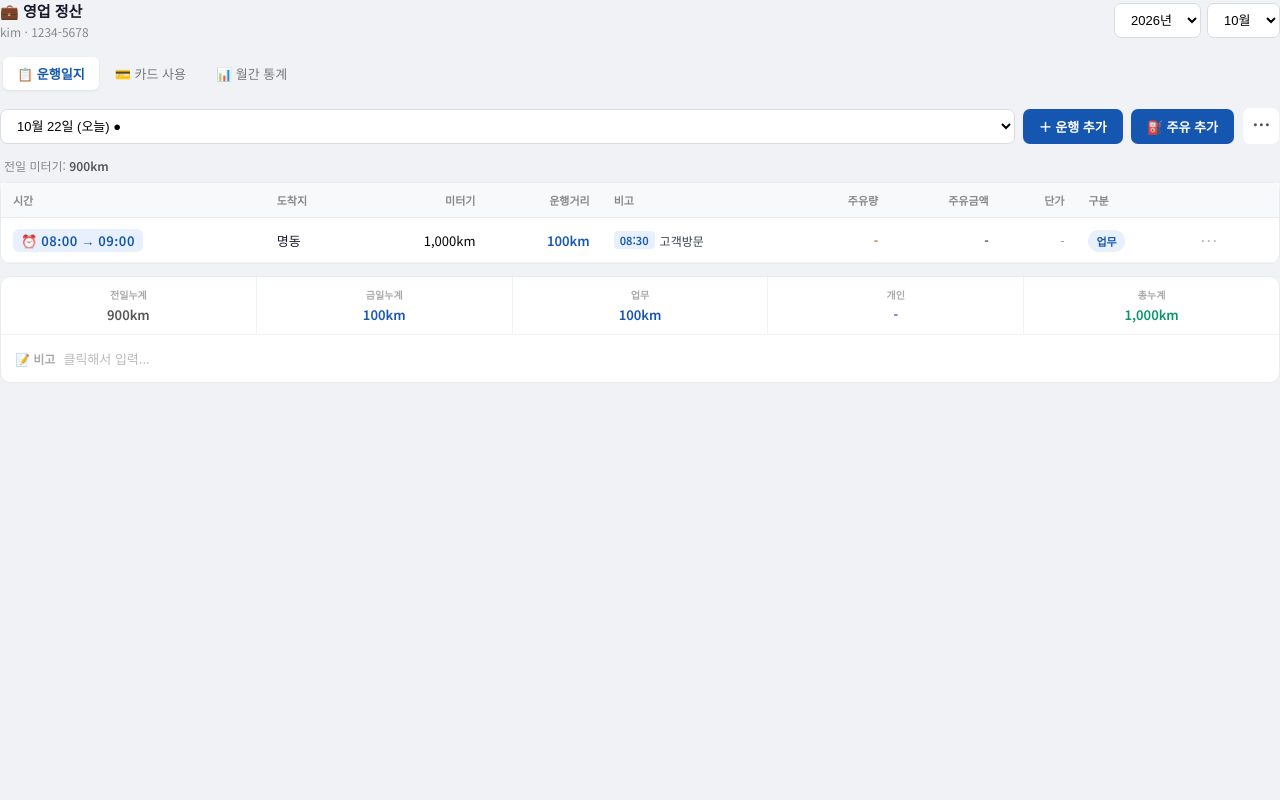
Test case: 영업 정산 – 입력 가능 날짜 › 운행 추가에서 다른 날짜를 고르면 뒤 화면도 그 날짜로 이동 · 저장 후에도 그 날짜
This screenshot has width=1280, height=800.
Expected: the 3rd dropdown shows "10월 22일 (오늘) ●", [0, 108, 1015, 144]
Click the button "＋ 운행 추가": (1073, 126) [1023, 108, 1123, 144]
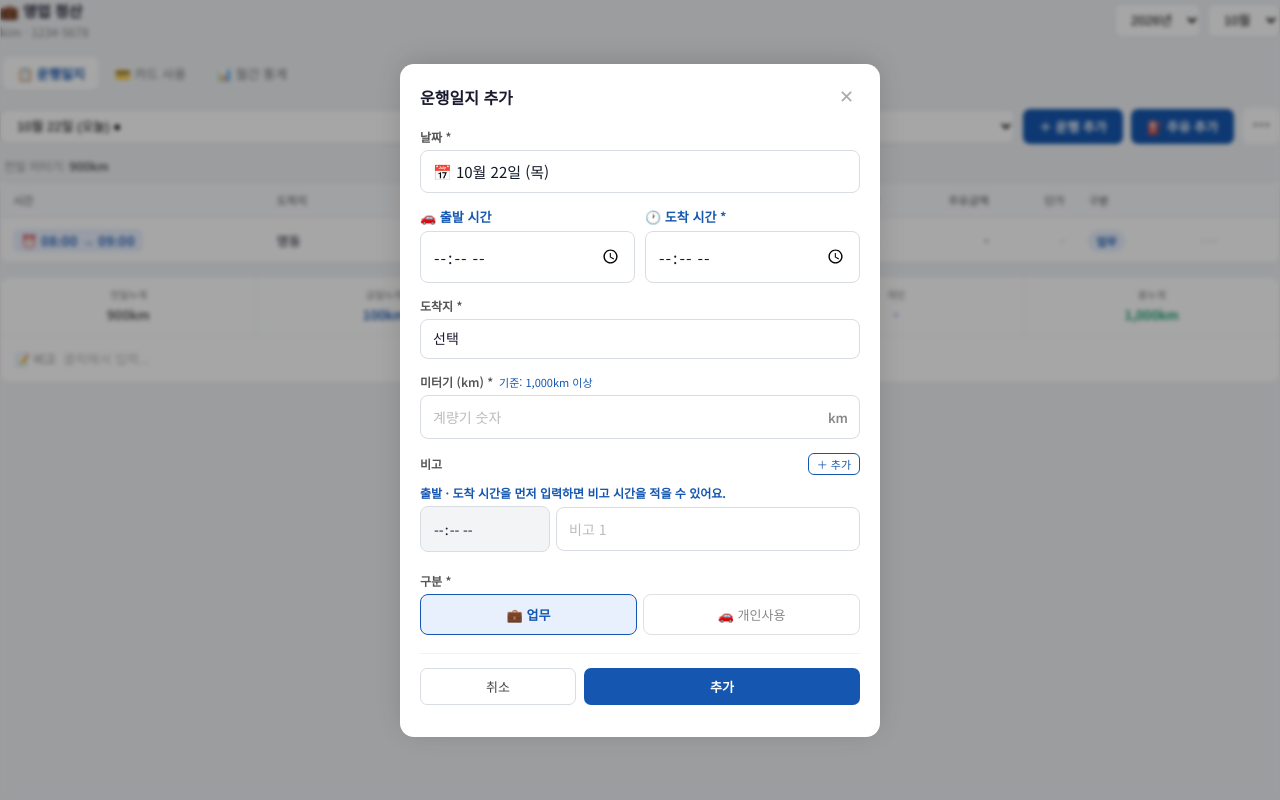
Expected: the element with class "sl-modal" is shown, [400, 64, 880, 736]
Click the button with class "sl-dp-btn": (503, 171) [420, 150, 860, 192]
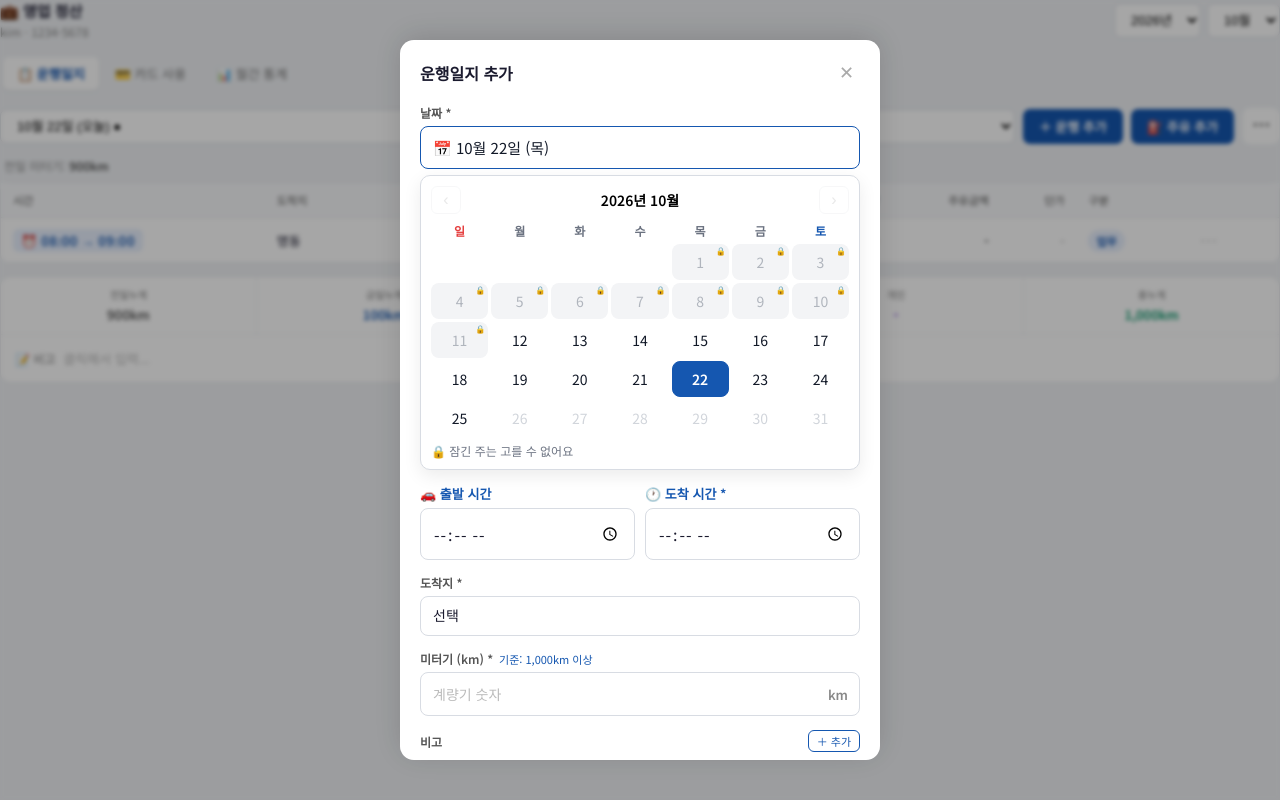
Click the button with class "sl-dp-day" showing "15": (700, 340) [672, 322, 729, 358]
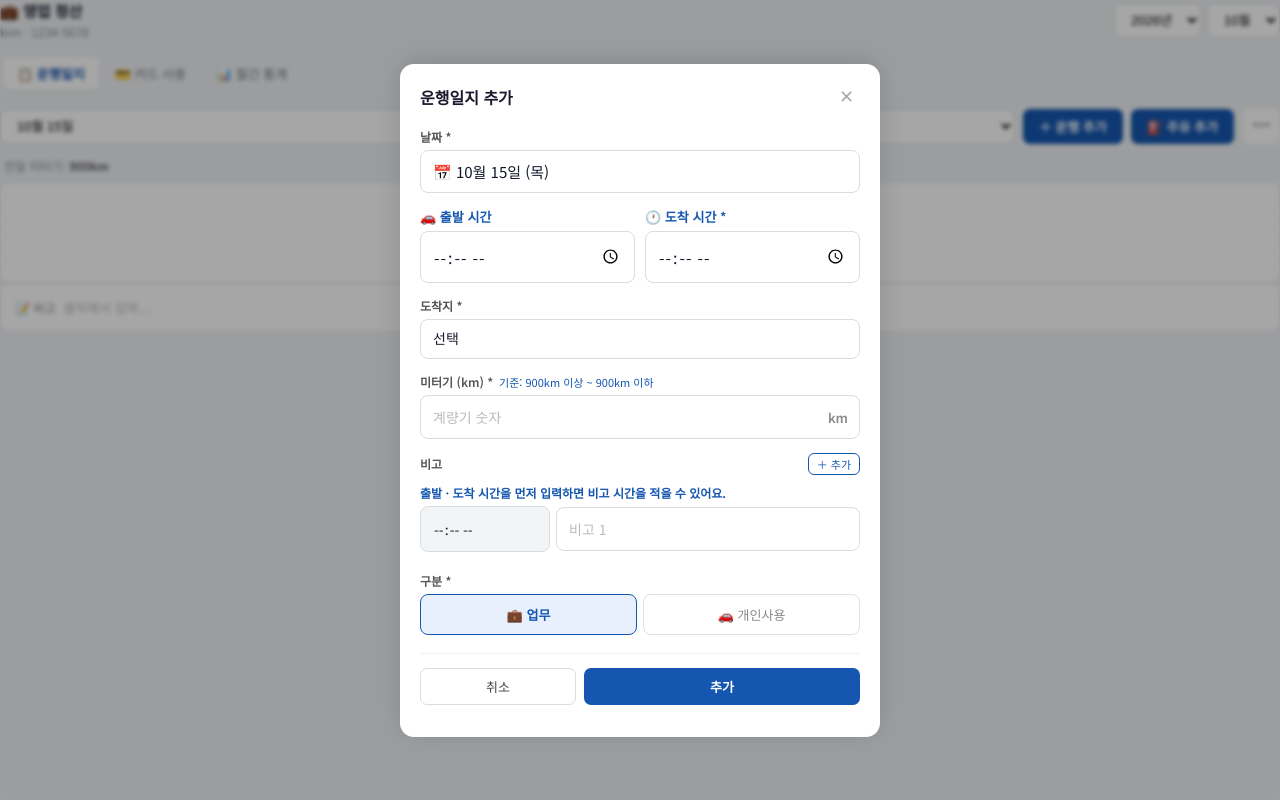
Expected: the 1st dropdown shows "10월 15일", [0, 108, 1015, 144]
In the number field with placeholder "계량기 숫자": (640, 416) [420, 394, 860, 438], type "900"
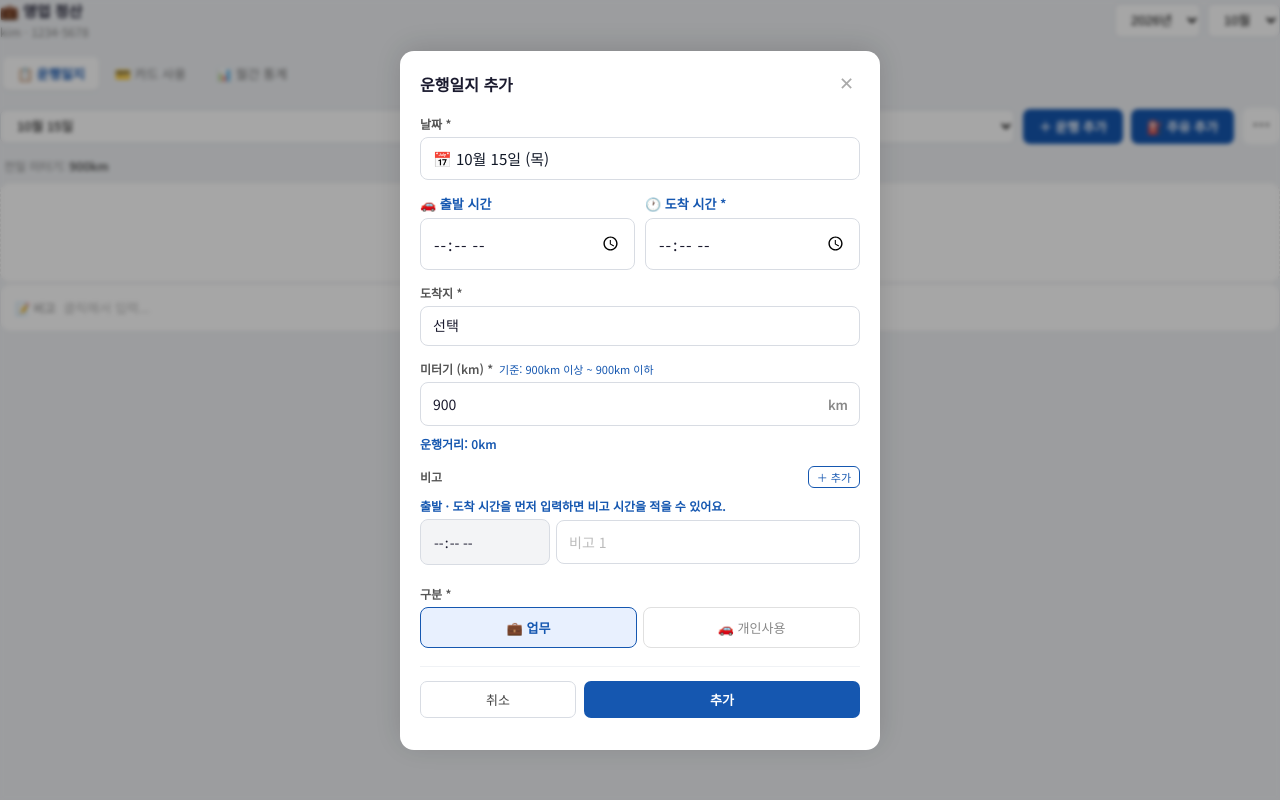
Submit the form, box [420, 114, 860, 718]
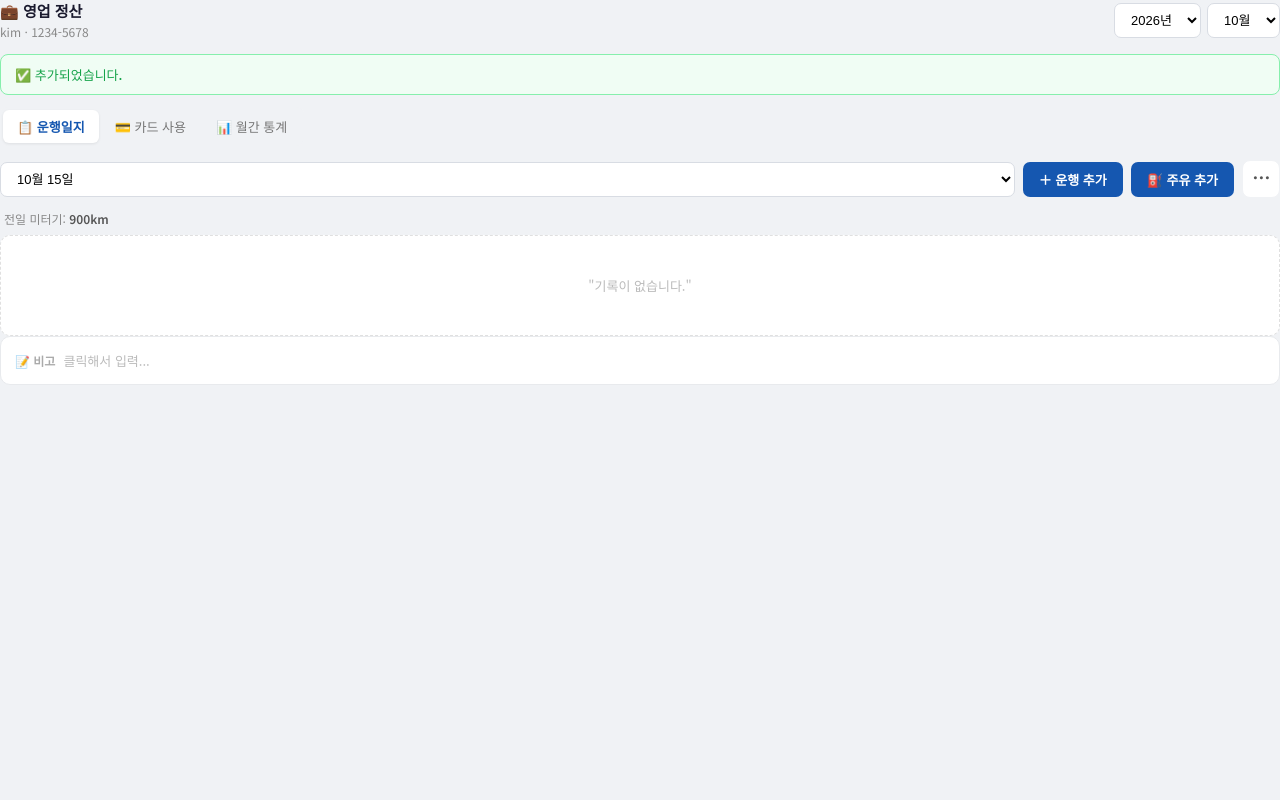
Expected: the 3rd dropdown shows "10월 15일", [0, 162, 1015, 196]
Expected: the element with class "sl-modal" is gone
